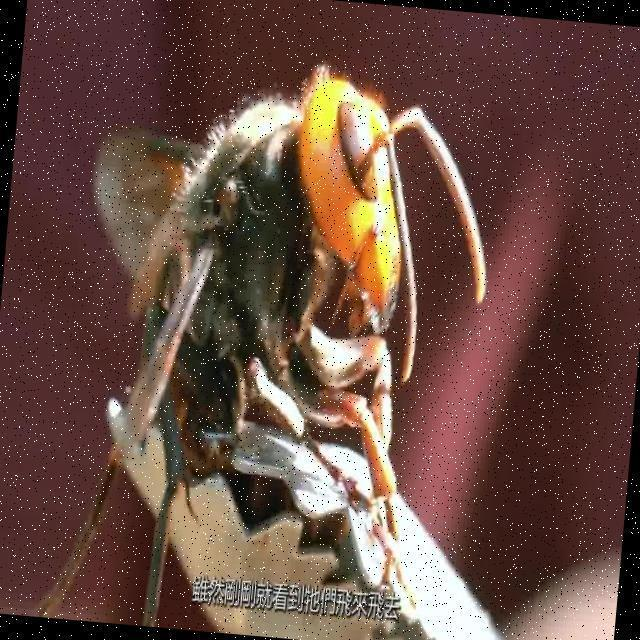Wasp: (72, 59, 518, 594)
